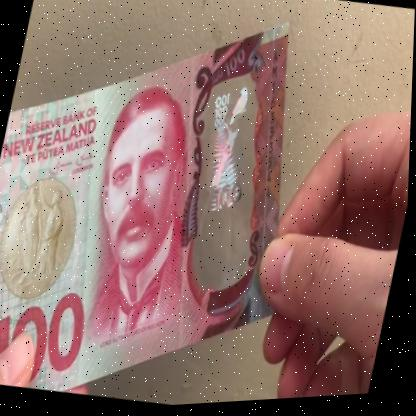100F: (180, 79, 281, 284)
